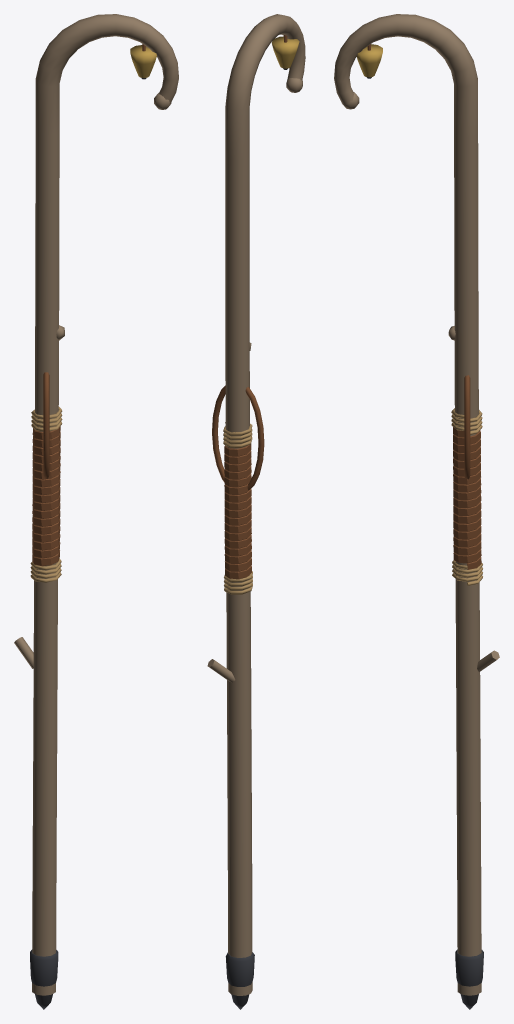
Rendered from tool_herdingcrook.fbx.
3 renders of one model, left to right at view 1: azimuth 90°, elevation 25°; view 2: azimuth 150°, elevation 25°; view 3: azimuth 270°, elevation 25°, orthographic. The views are drawn at different scales.
Visible parts, largest first — view 1: Tool_HerdingCrook_Staff, Tool_HerdingCrook_Wrap, Tool_HerdingCrook_Ferrule, Tool_HerdingCrook_Thong, Tool_HerdingCrook_Bell; view 2: Tool_HerdingCrook_Staff, Tool_HerdingCrook_Wrap, Tool_HerdingCrook_Thong, Tool_HerdingCrook_Ferrule, Tool_HerdingCrook_Bell; view 3: Tool_HerdingCrook_Staff, Tool_HerdingCrook_Wrap, Tool_HerdingCrook_Ferrule, Tool_HerdingCrook_Thong, Tool_HerdingCrook_Bell.
Part boxes in pixels (x1,y1,x2,y2): Tool_HerdingCrook_Staff: (14, 14, 178, 995); Tool_HerdingCrook_Wrap: (30, 406, 62, 582); Tool_HerdingCrook_Ferrule: (30, 949, 58, 1009); Tool_HerdingCrook_Thong: (43, 372, 49, 478); Tool_HerdingCrook_Bell: (130, 44, 156, 79); Tool_HerdingCrook_Staff: (207, 14, 305, 995); Tool_HerdingCrook_Wrap: (223, 422, 252, 594); Tool_HerdingCrook_Thong: (212, 385, 264, 490); Tool_HerdingCrook_Ferrule: (225, 952, 254, 1009); Tool_HerdingCrook_Bell: (271, 35, 299, 69); Tool_HerdingCrook_Staff: (334, 14, 499, 995); Tool_HerdingCrook_Wrap: (451, 408, 482, 585); Tool_HerdingCrook_Ferrule: (455, 949, 483, 1009); Tool_HerdingCrook_Thong: (464, 375, 470, 479); Tool_HerdingCrook_Bell: (357, 44, 382, 78).
Bounding box in the file's own units: 9.86 × 178 × 26.87.
